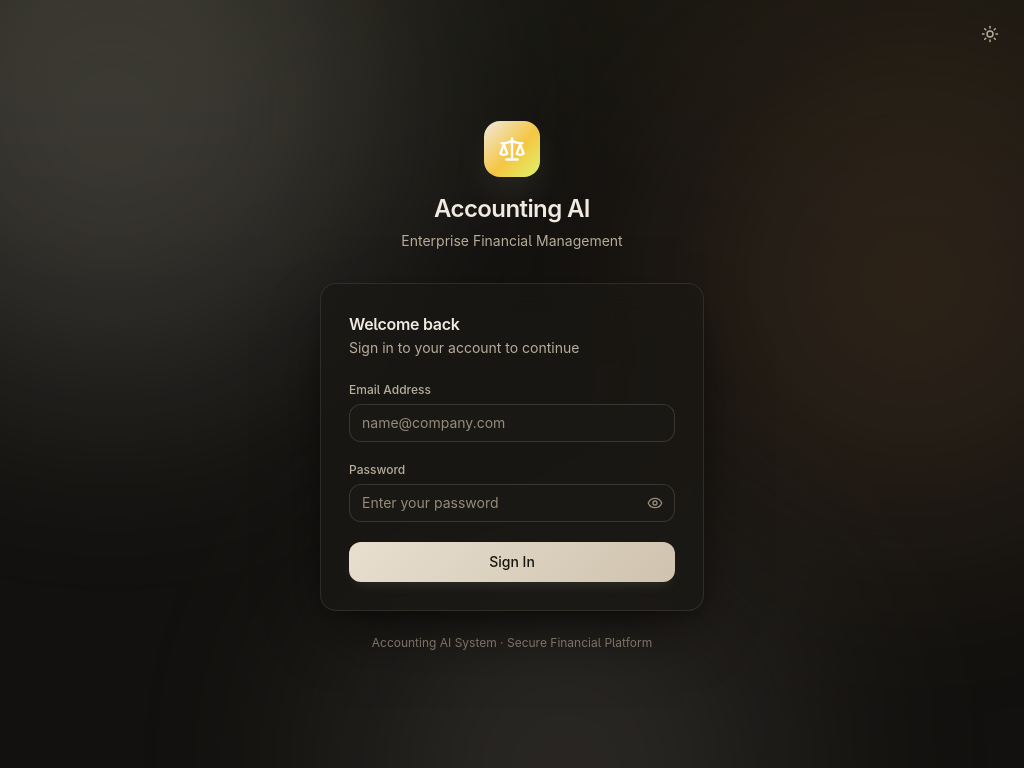
Scenario: the login form says why a sign-in failed › keeps the server wording for anything that is not a bad password
Type "someone@acme-demo.com" into the field labelled "Email Address".
click(512, 423); type("someone@acme-demo.com")  # box [349,404,675,442]
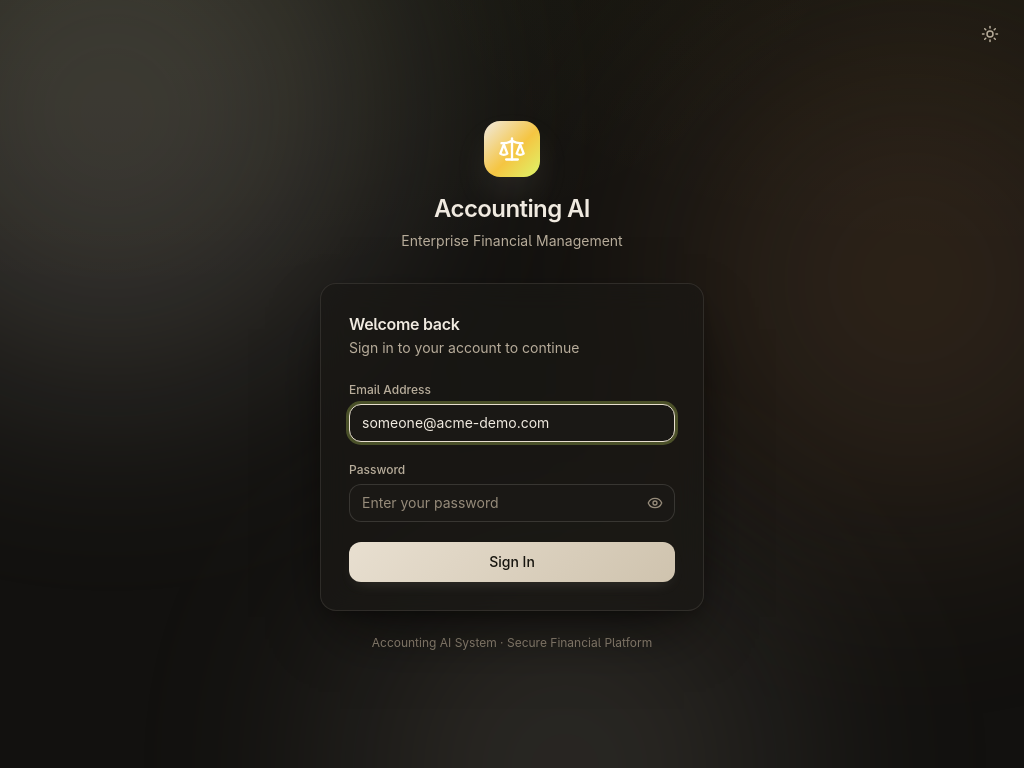
Type "wrong-password" into the password field labelled "Password".
click(512, 503); type("wrong-password")  # box [349,484,675,522]
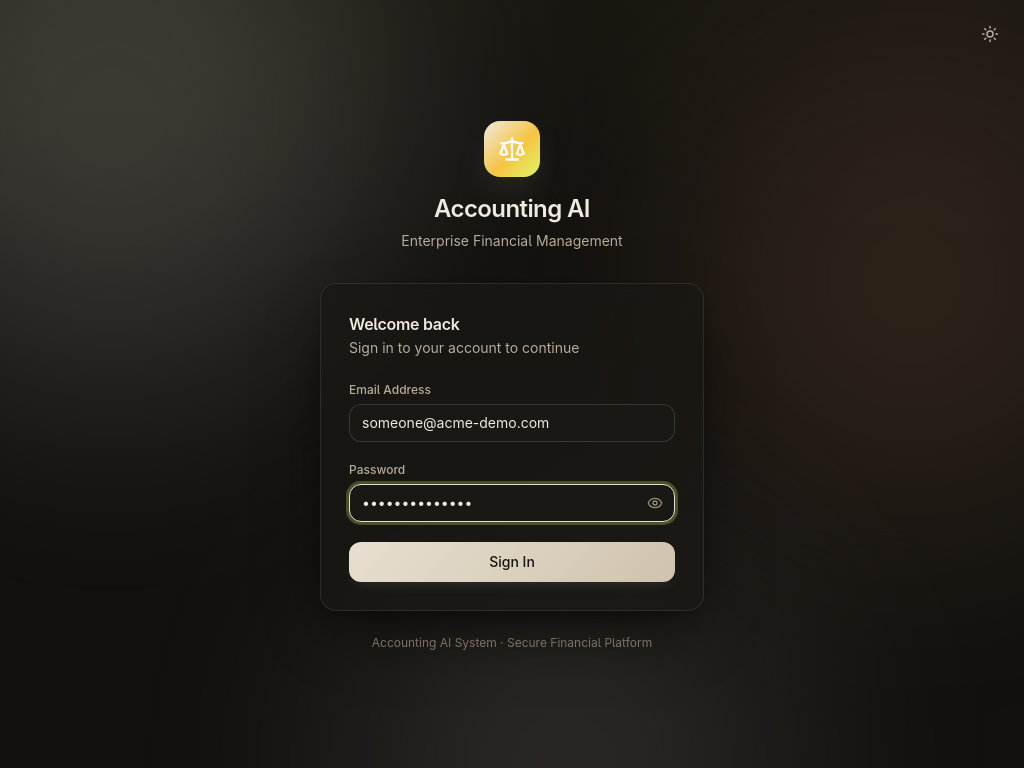
Click the button "Sign In".
click(512, 562)  # box [349,542,675,582]
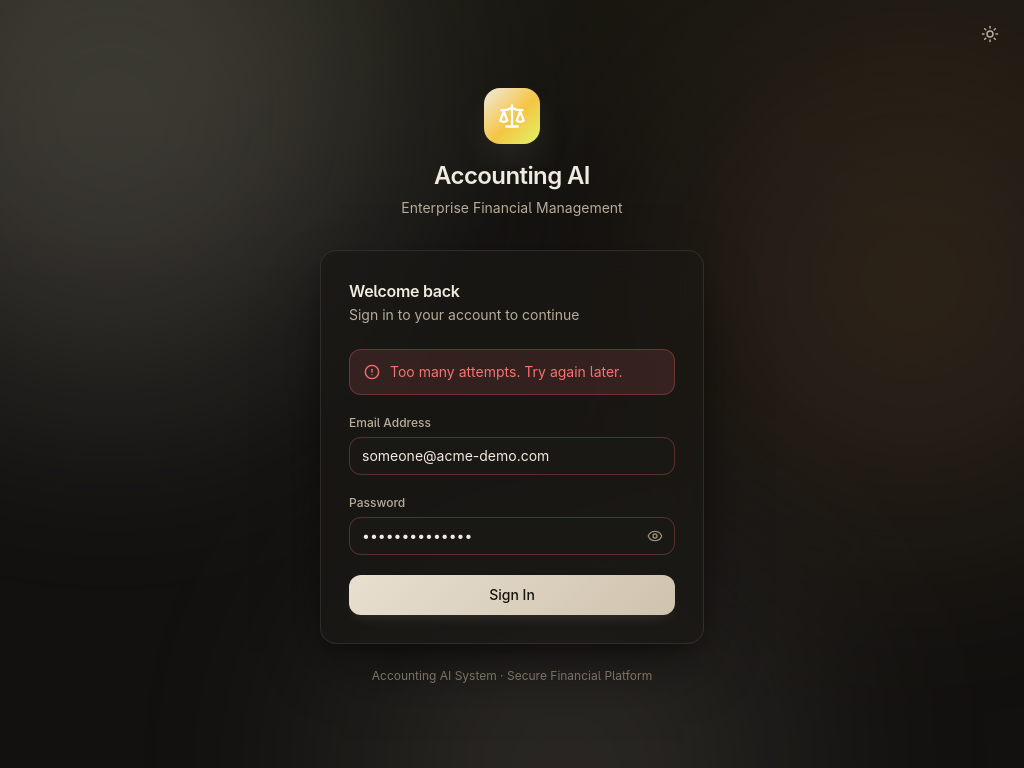
Check: the message reads "Too many attempts. Try again later.", box [390,363,623,380]
